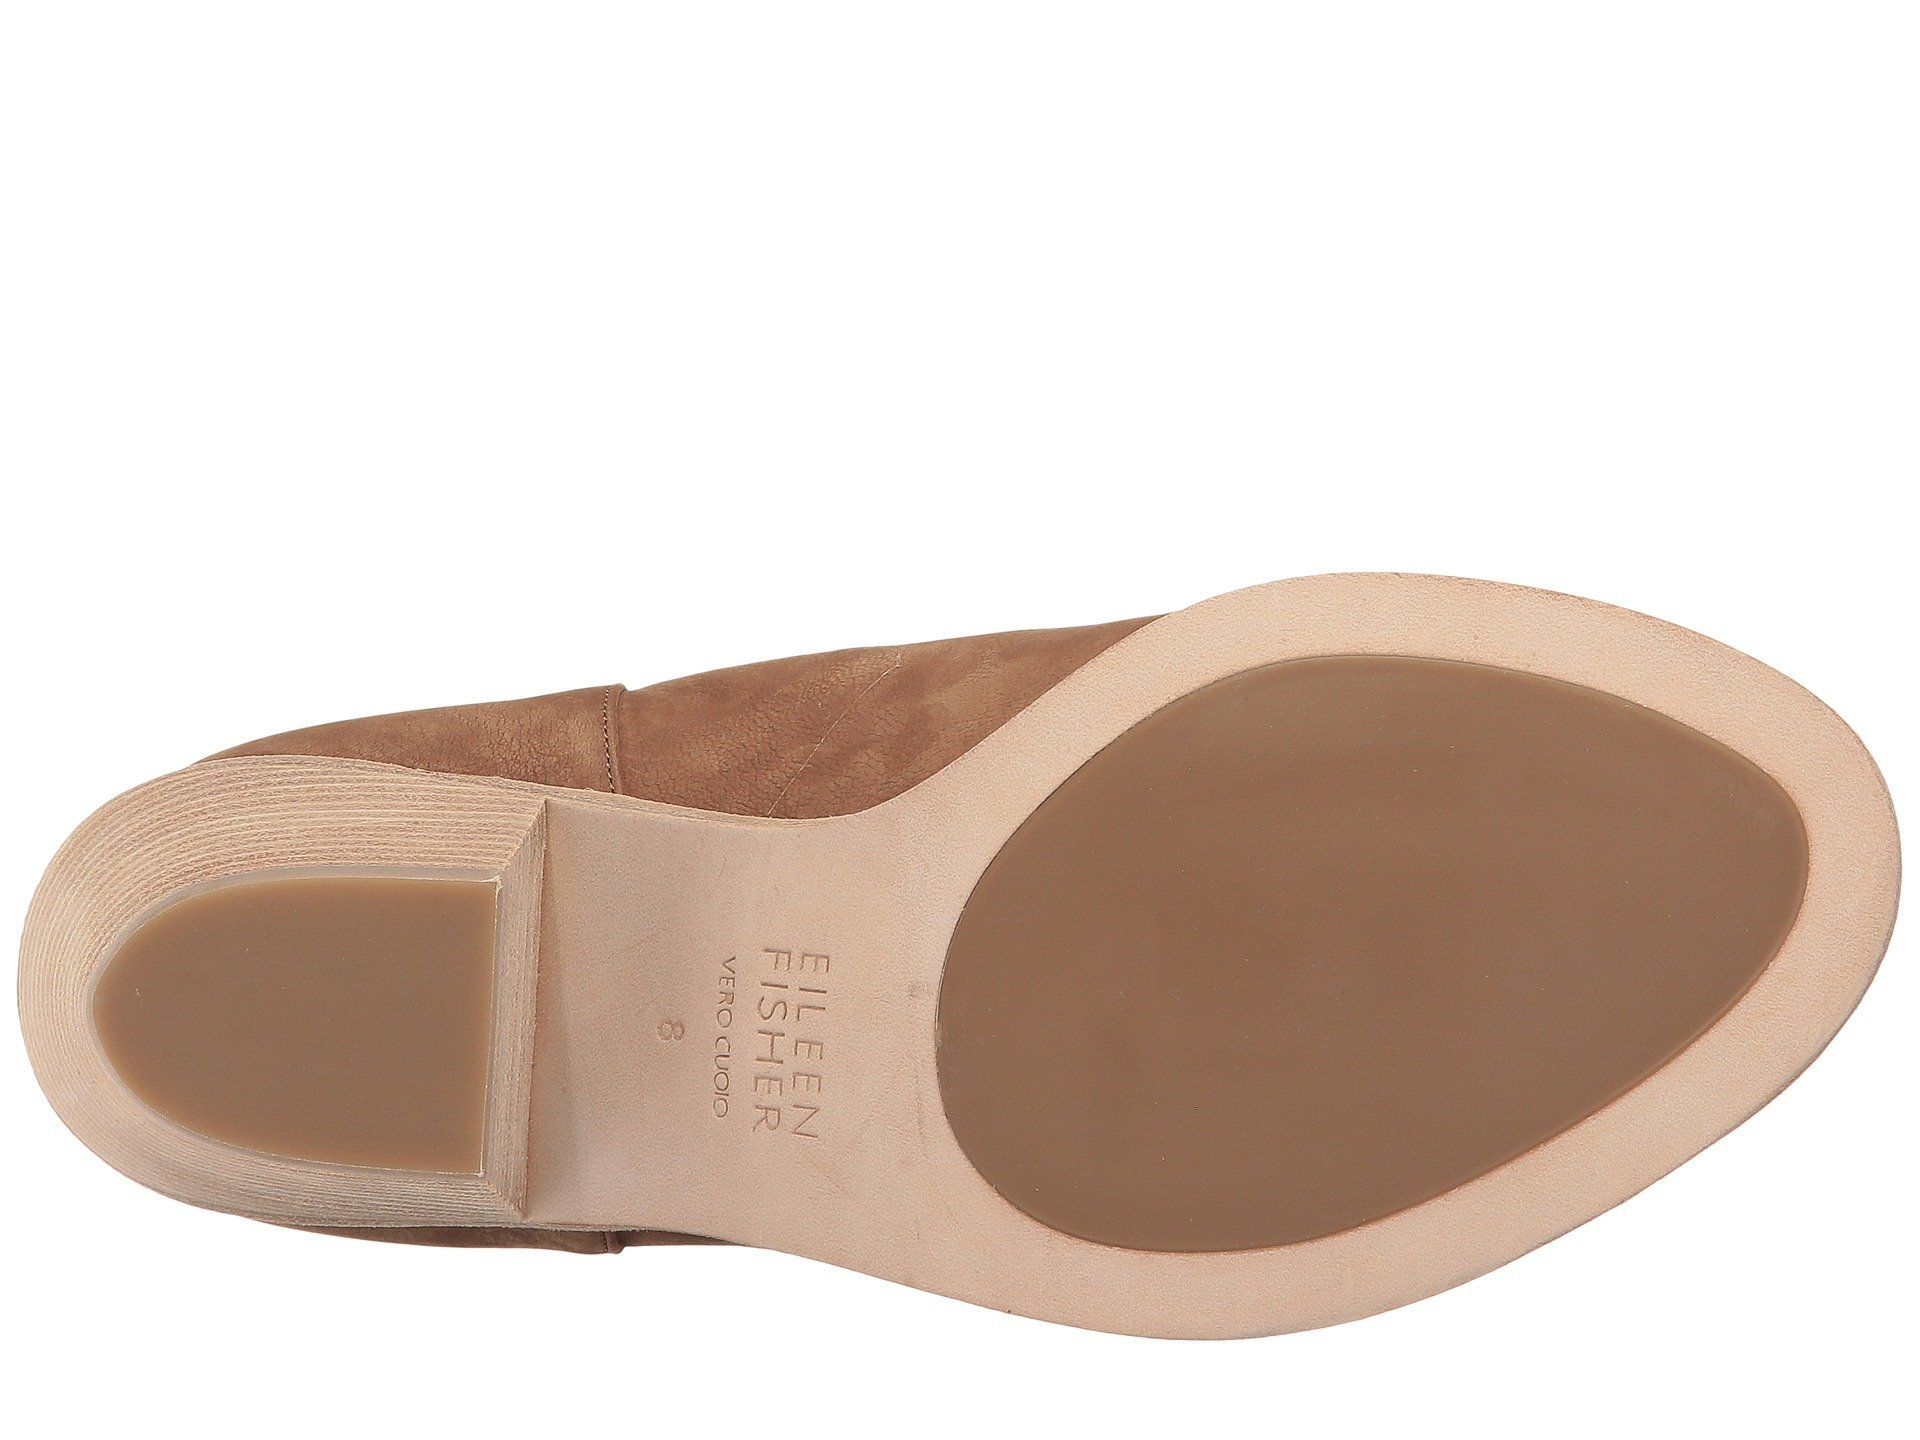other: (1194, 765, 1506, 1091)
